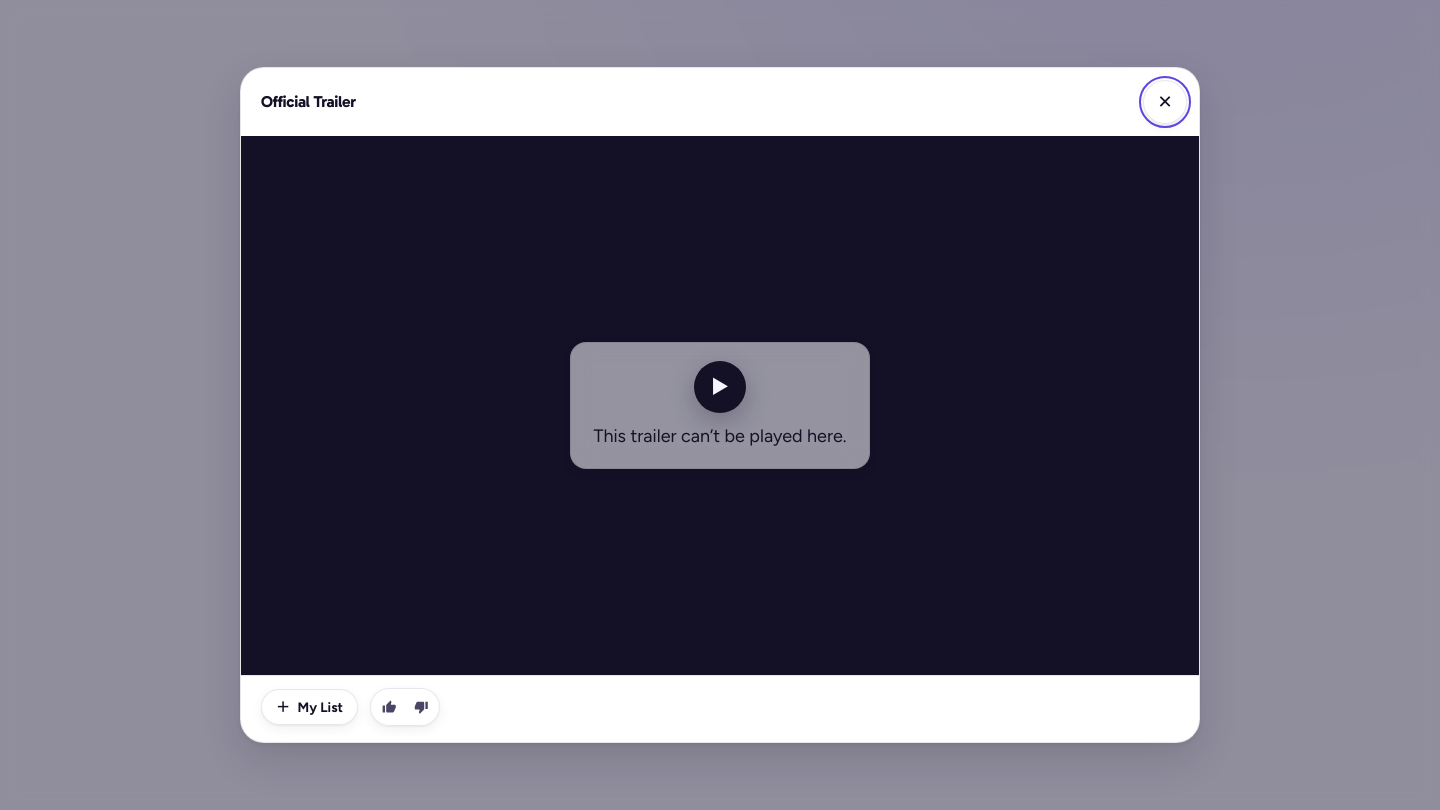
it: TrailerModal footer (My List + thumbs) › toggles My List in the store with a toast, without closing
Click the button with aria-label "Add Midnight Protocol to My List".
click(310, 707)  # box [261, 689, 358, 725]
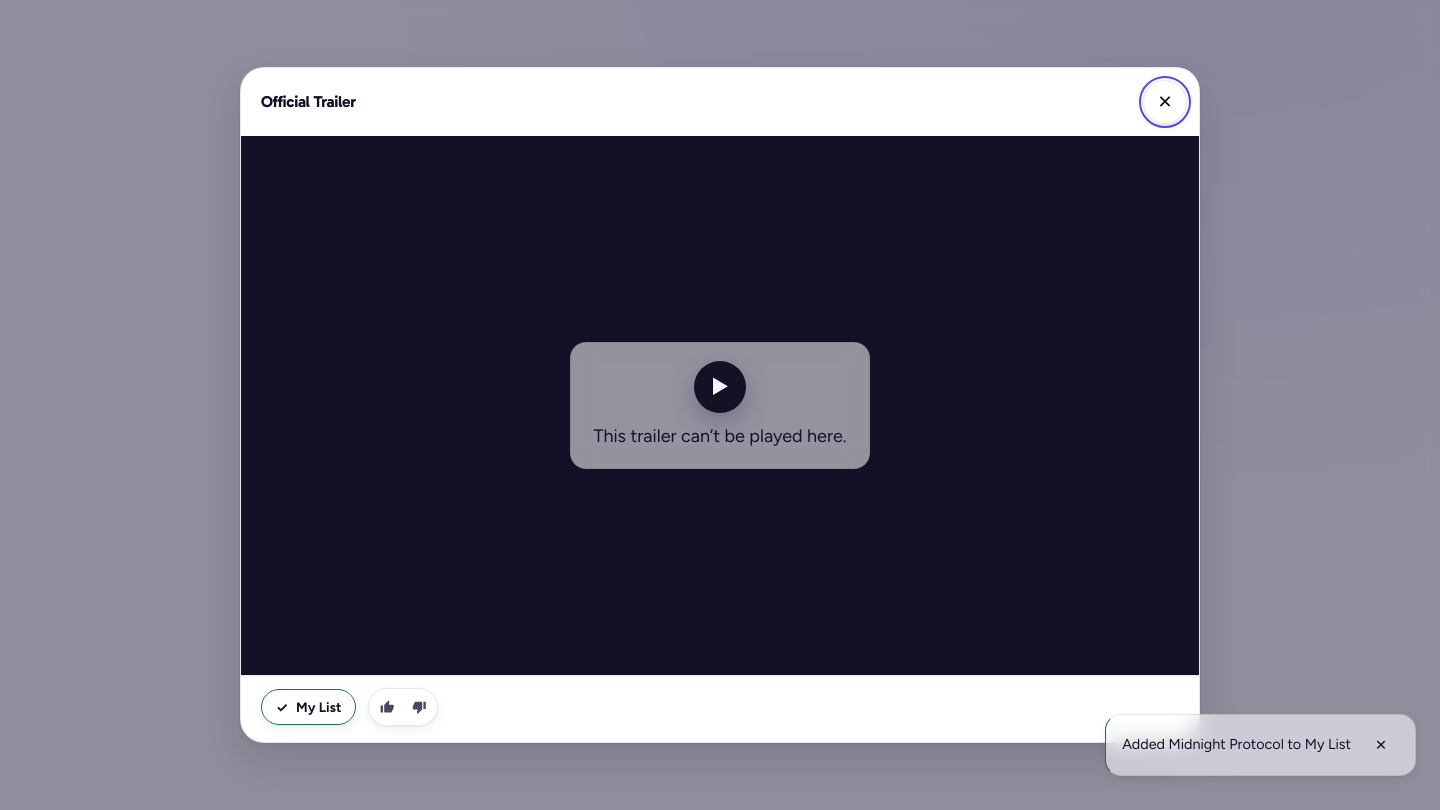
Result: the message shows "Added Midnight Protocol to My List" at [1122, 735, 1351, 753]
Click the button with aria-label "Remove Midnight Protocol from My List".
click(309, 707)  # box [261, 689, 356, 725]
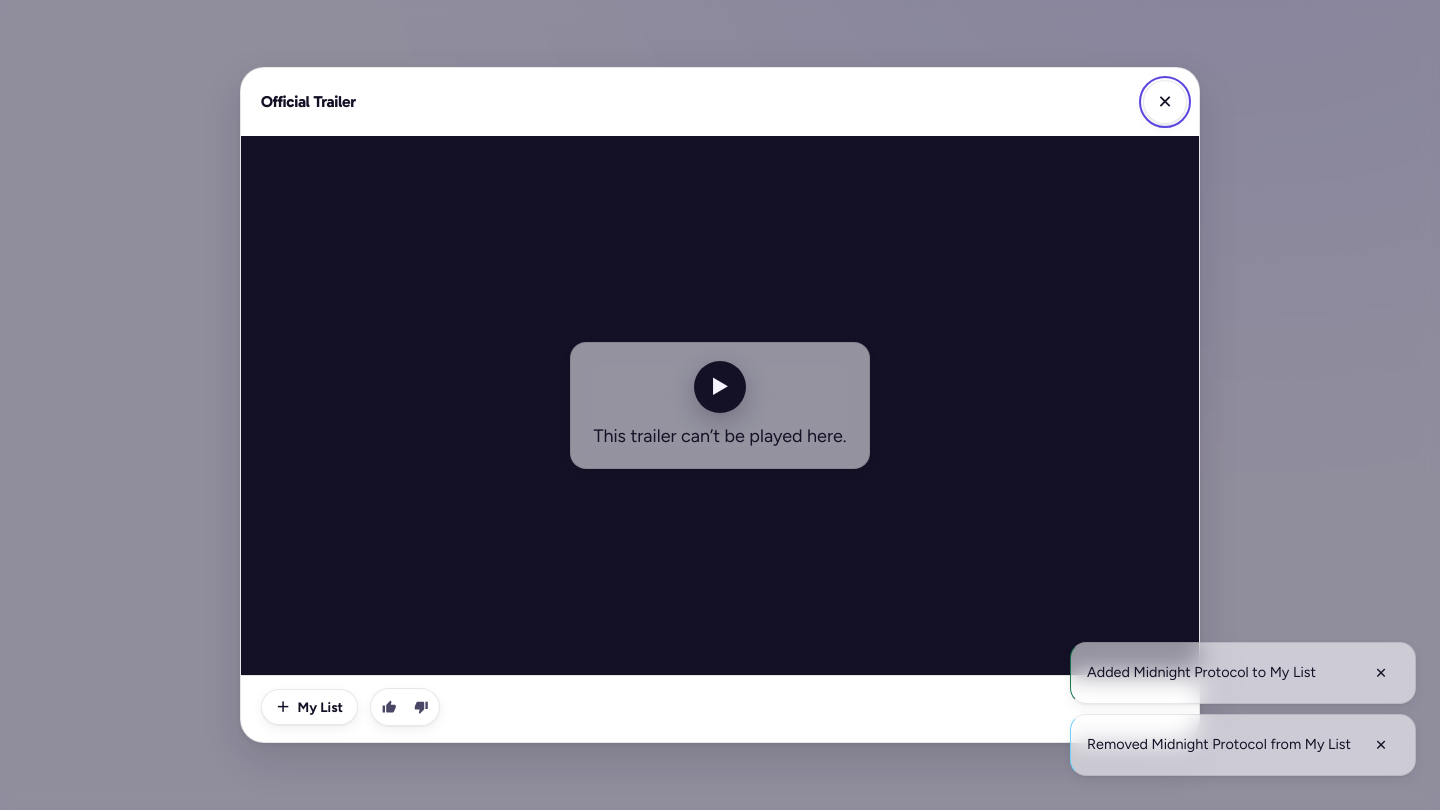
Result: the text "Removed Midnight Protocol from My List" is shown at [1087, 734, 1351, 756]
